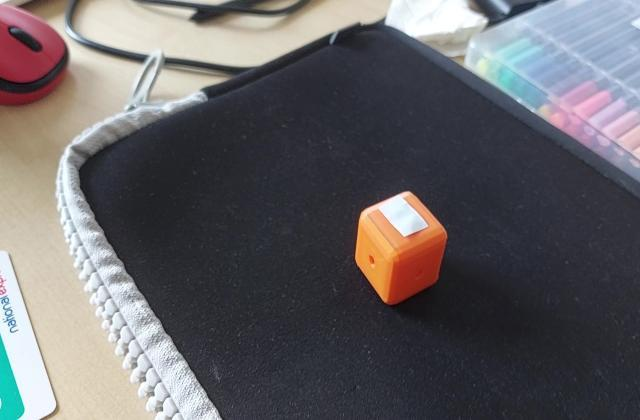sticker: (350, 190, 450, 307)
white: (385, 208, 432, 240)
